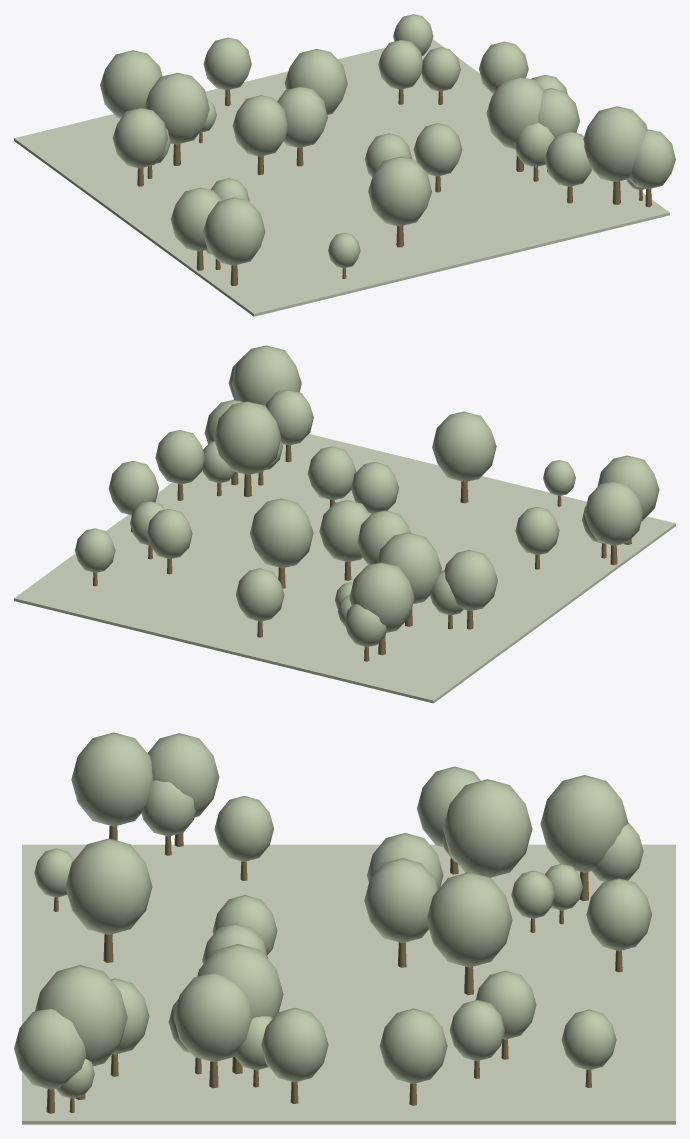
The picture shows the model from 3 angles, top to bottom: view 1: azimuth 30°, elevation 25°; view 2: azimuth 150°, elevation 25°; view 3: azimuth 270°, elevation 25°; orthographic projection. The views are drawn at different scales.
Visible parts, largest first — view 1: terrain, lod-near-13, lod-near-24, lod-near-16, lod-near-30, lod-near-11, lod-near-20, lod-near-28, lod-near-9, lod-near-18, lod-near-1, lod-near-8 (+13 smaller); view 2: terrain, lod-near-20, lod-near-24, lod-near-18, lod-near-11, lod-near-13, lod-near-8, lod-near-30, lod-near-9, lod-near-1, lod-near-10, lod-near-17 (+14 smaller); view 3: terrain, lod-near-30, lod-near-24, lod-near-18, lod-near-11, lod-near-16, lod-near-13, lod-near-7, lod-near-1, lod-near-15, lod-near-31, lod-near-10 (+19 smaller).
Boxes of the visible parts, x1,y1,x2,y2 form: terrain: (14, 39, 669, 316); lod-near-13: (583, 106, 647, 181); lod-near-24: (368, 156, 431, 226); lod-near-16: (203, 197, 265, 265); lod-near-30: (144, 73, 209, 144); lod-near-11: (100, 50, 162, 118); lod-near-20: (486, 77, 544, 148); lod-near-28: (232, 95, 287, 156); lod-near-9: (112, 108, 168, 168); lod-near-18: (284, 49, 347, 114); lod-near-1: (277, 86, 327, 147); lod-near-8: (170, 187, 222, 251); terrain: (14, 434, 675, 703); lod-near-20: (214, 401, 281, 474); lod-near-24: (432, 411, 496, 481); lod-near-18: (250, 498, 313, 568); lod-near-11: (349, 562, 414, 632); lod-near-13: (232, 345, 301, 405); lod-near-8: (584, 481, 643, 545); lod-near-30: (377, 532, 441, 603); lod-near-9: (444, 550, 497, 610); lod-near-1: (319, 500, 369, 562); lod-near-10: (155, 430, 205, 484); lod-near-17: (307, 446, 356, 500); terrain: (22, 844, 675, 1124); lod-near-30: (443, 779, 532, 877); lod-near-24: (65, 838, 152, 934); lod-near-18: (426, 872, 512, 967); lod-near-11: (540, 775, 628, 872); lod-near-16: (71, 732, 152, 826); lod-near-13: (35, 965, 127, 1066); lod-near-7: (173, 973, 252, 1062); lod-near-1: (364, 858, 437, 943); lod-near-15: (14, 1009, 85, 1089); lod-near-31: (379, 1008, 447, 1083); lod-near-10: (261, 1008, 328, 1082).
Size of the model in its own units: 34.66 by 7.3 by 32.39.
